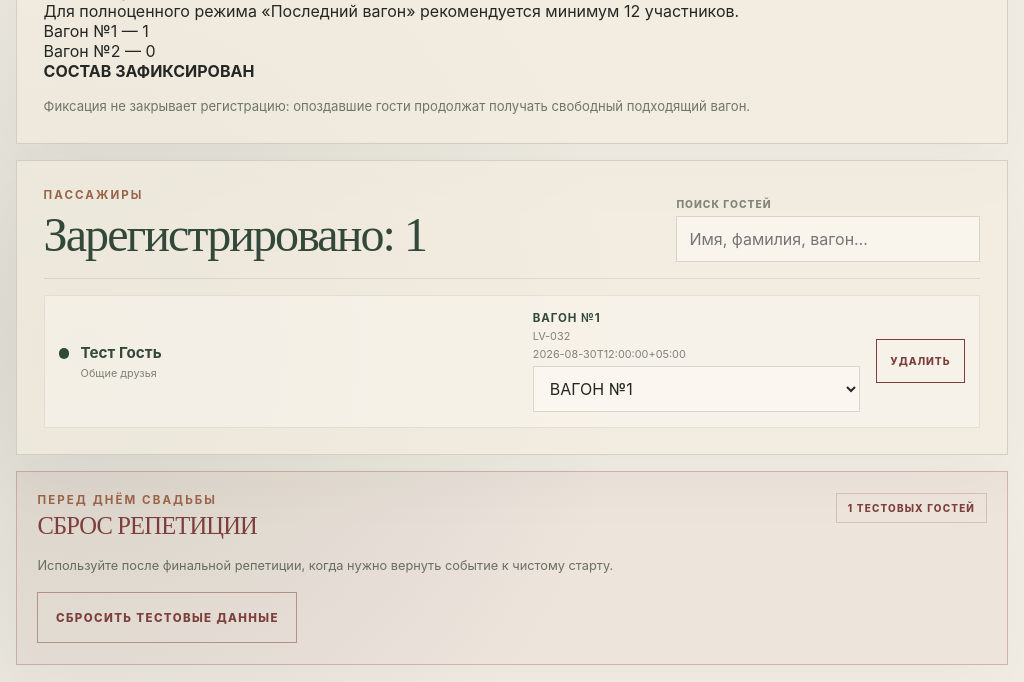
Test: AdminShell rehearsal reset › reports a completed reset even when the follow-up dashboard refresh is temporarily unavailable
This screenshot has width=1024, height=682.
(page scrolled)
Expected: the heading "Тест Гость" is shown, [81, 343, 162, 362]
Click the button "СБРОСИТЬ ТЕСТОВЫЕ ДАННЫЕ": point(167, 618) [38, 592, 297, 644]
(page scrolled)
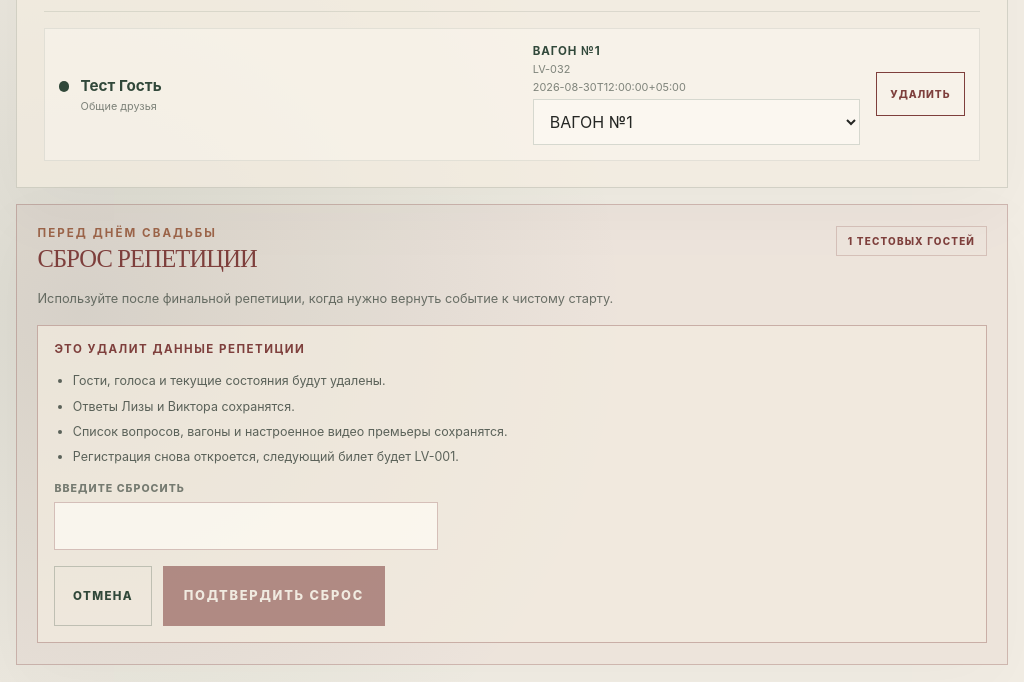
In the field labelled "Введите СБРОСИТЬ": point(246, 526) [54, 502, 438, 550], type "СБРОСИТЬ"
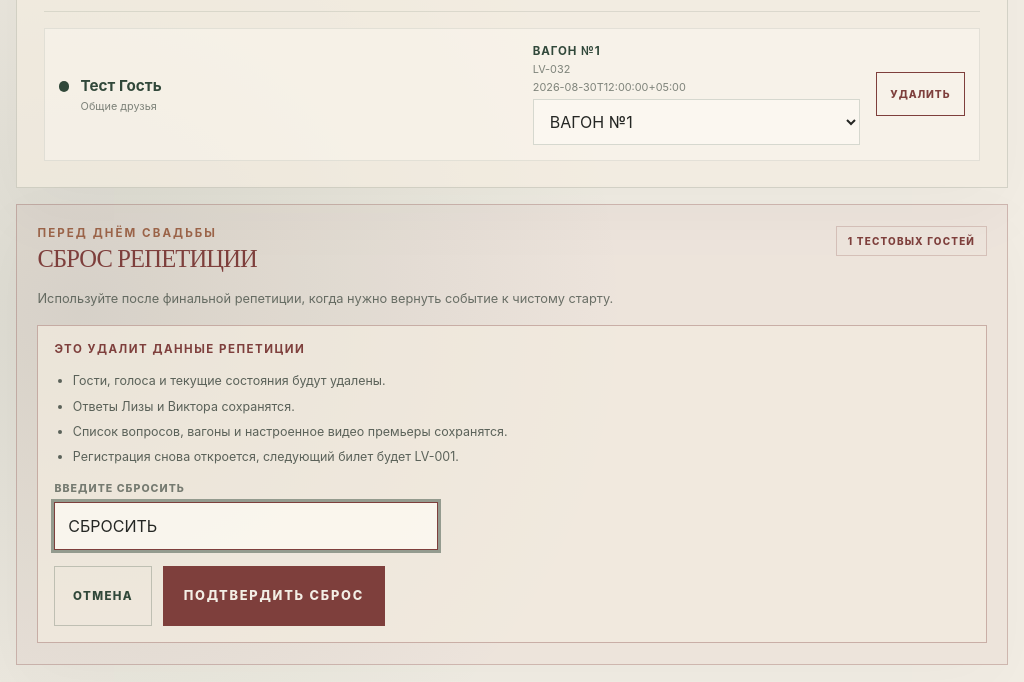
Click the button "ПОДТВЕРДИТЬ СБРОС": point(274, 596) [163, 566, 385, 626]
(page scrolled)
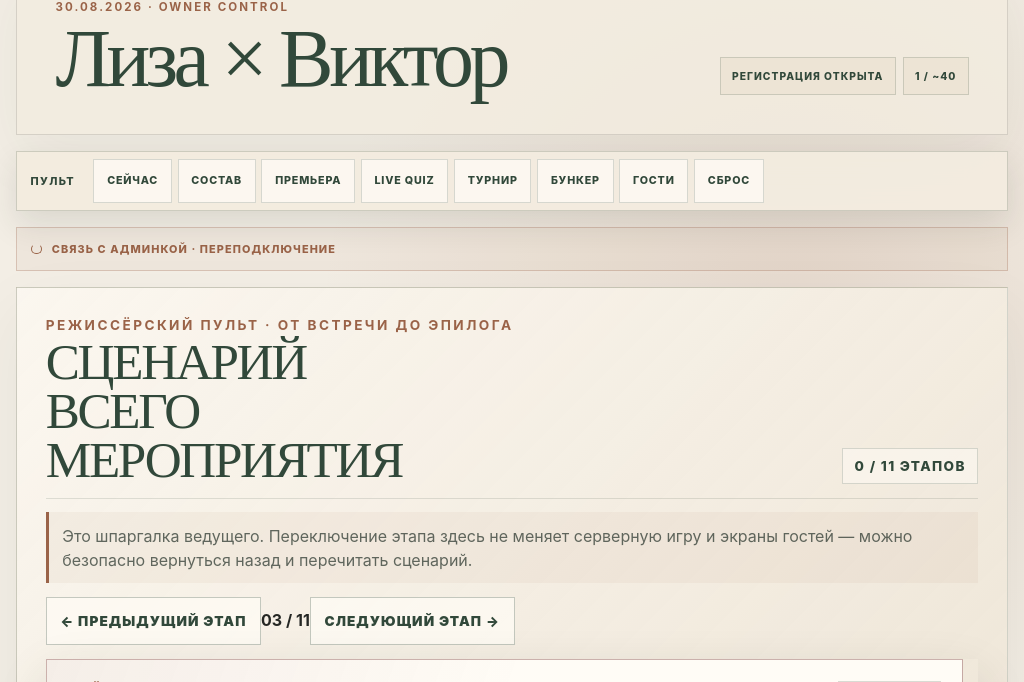
Expected: the text "СВЯЗЬ С АДМИНКОЙ · ПЕРЕПОДКЛЮЧЕНИЕ" is shown, [16, 227, 1008, 271]
